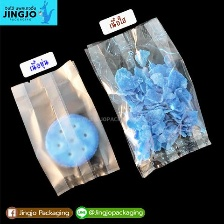snack: (78, 12, 217, 183), (3, 55, 125, 201)
